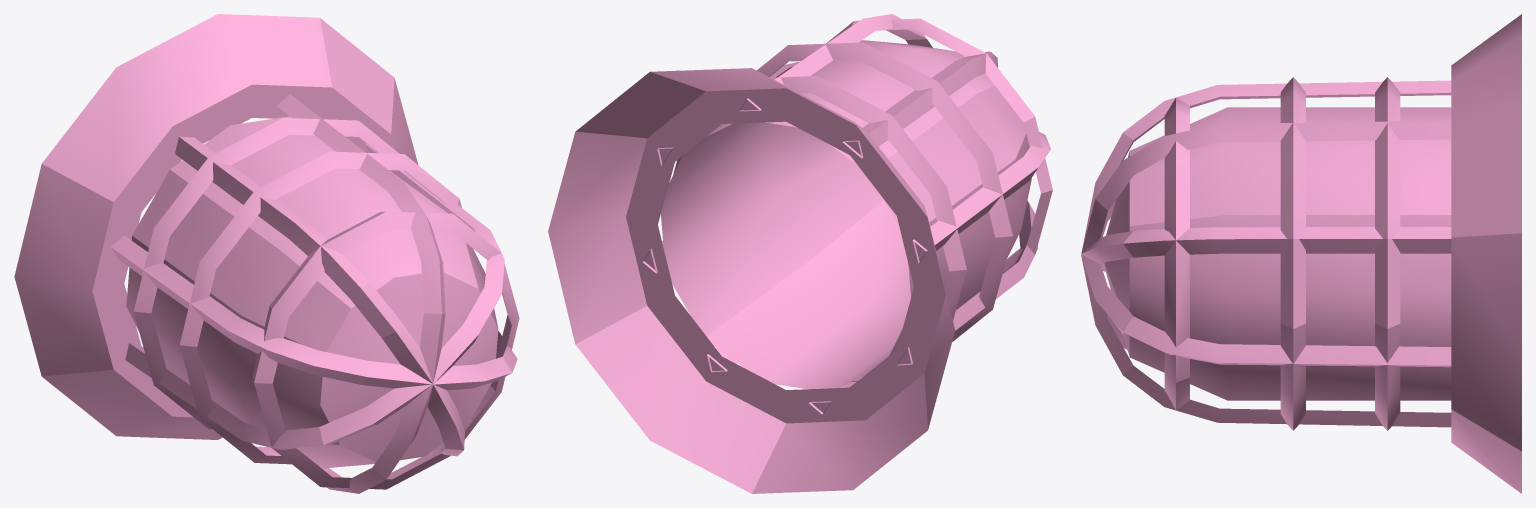
The model's file is lightbulb2.fbx.
The picture shows the model from 3 angles, left to right: view 1: azimuth 30°, elevation 25°; view 2: azimuth 150°, elevation 25°; view 3: azimuth 270°, elevation 25°; orthographic projection. The views are drawn at different scales.
Parts seen in each view (by area): view 1: AF_tech_light; view 2: AF_tech_light; view 3: AF_tech_light.
Part boxes in pixels (bbox=[...]): AF_tech_light: bbox=[14, 14, 519, 493]; AF_tech_light: bbox=[548, 14, 1052, 493]; AF_tech_light: bbox=[1081, 14, 1521, 493].
Bounding box in the file's own units: 25.8 × 25.78 × 23.58.
